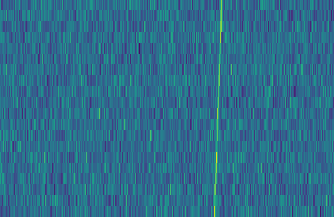signal: (210, 0, 227, 217)
